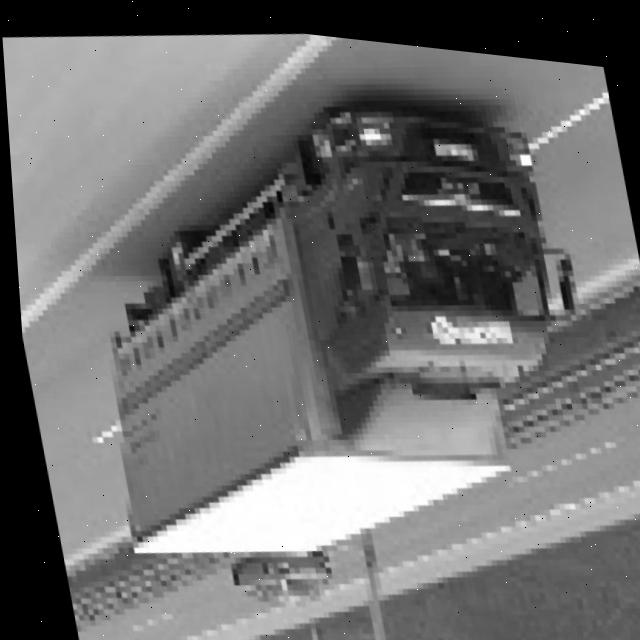truck: (248, 56, 619, 505)
